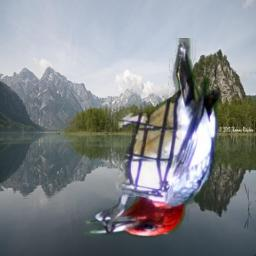Woodpecker: (83, 38, 220, 238)
